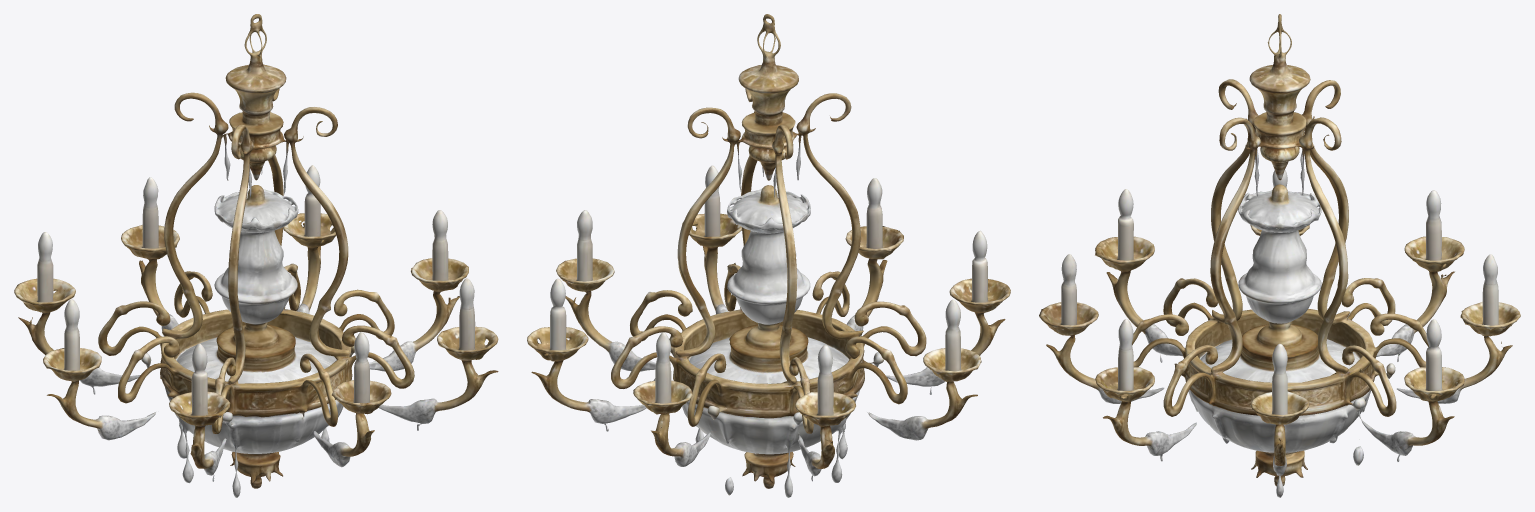
File: crystal_chandelier.glb
3 views of the same model, side by side, from view 1: azimuth 30°, elevation 25°; view 2: azimuth 150°, elevation 25°; view 3: azimuth 270°, elevation 25° (orthographic).
Parts seen in each view (by area): view 1: tripo_node_728900eb; view 2: tripo_node_728900eb; view 3: tripo_node_728900eb.
Part boxes in pixels (x1,y1,x2,y2): tripo_node_728900eb: (14,14,498,497); tripo_node_728900eb: (527,14,1010,497); tripo_node_728900eb: (1039,14,1520,497).
Size of the model in its own units: 85.01 by 91.89 by 84.86.
1 material, 1 textured.
